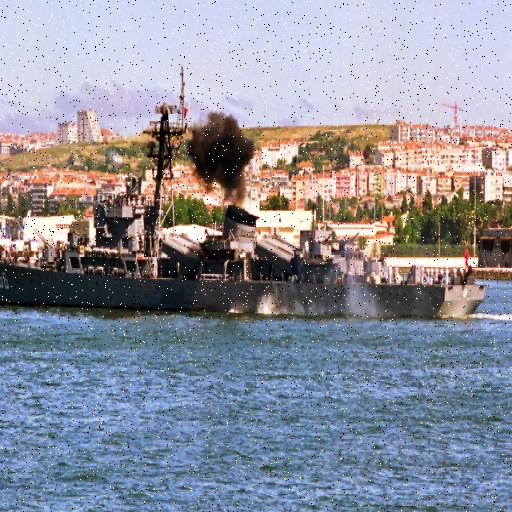Fragata: (1, 93, 493, 314)
